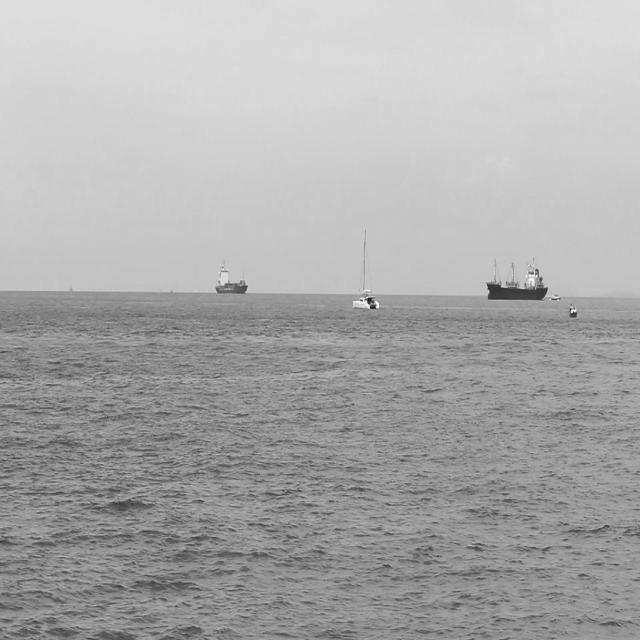ship: (486, 256, 549, 300), (352, 226, 381, 312), (214, 260, 248, 296), (568, 301, 578, 318), (549, 292, 562, 302)
